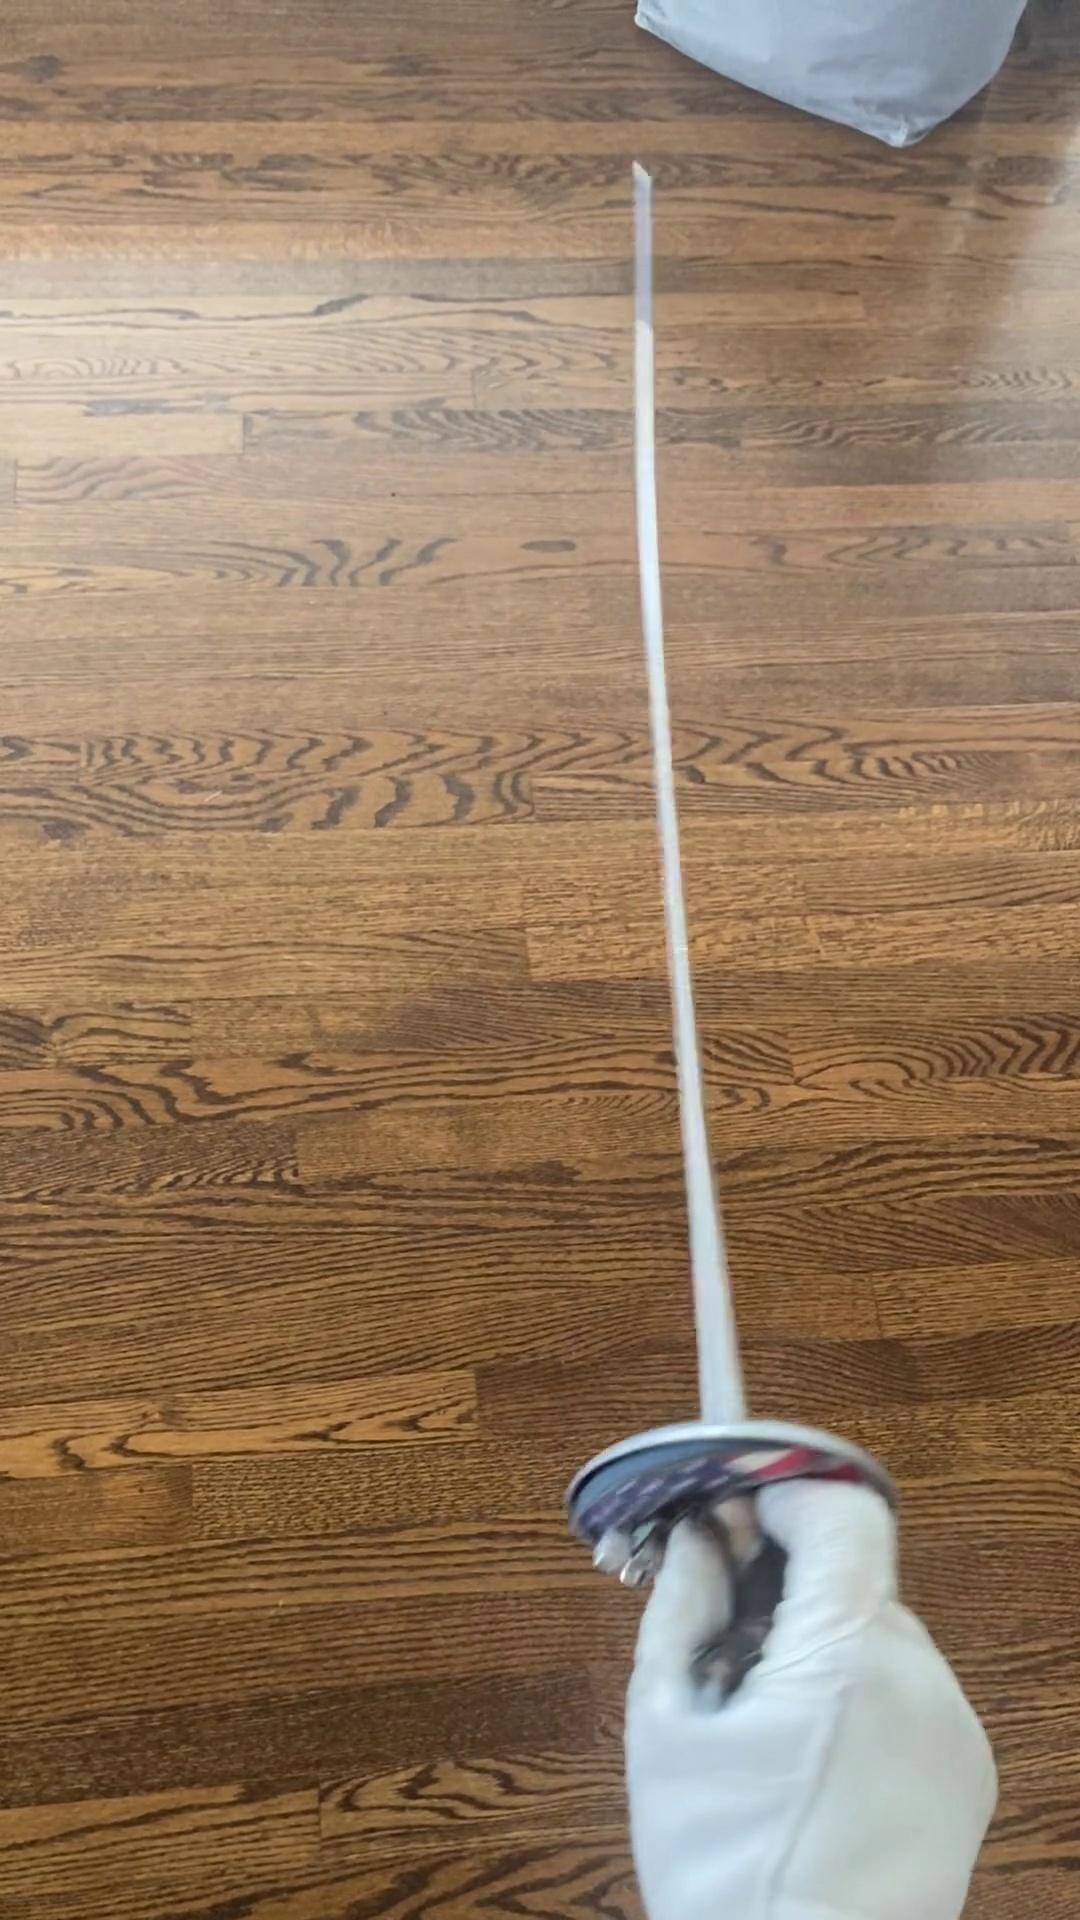blade-guard: (551, 1381, 906, 1659)
blade-tip: (618, 149, 675, 355)
fencing-blade: (554, 138, 909, 1812)
